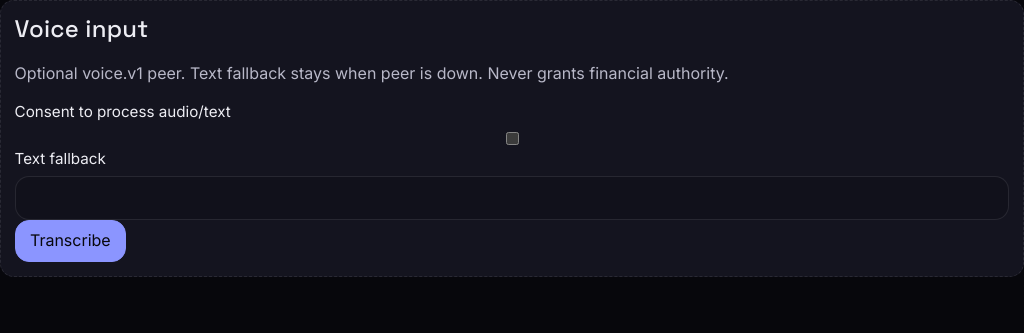
Test: wave6 money-path gates › voice enabled path fails closed on peer down (no fake transcript)
The width and height of the screenshot is (1024, 333).
Click the checkbox: coordinates (512, 138) [19,132,1006,145]
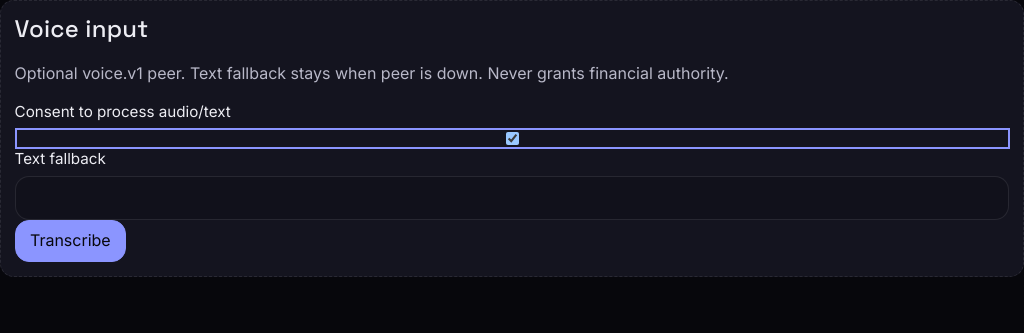
Click the button "Transcribe": coordinates (70, 241) [15,220,126,262]
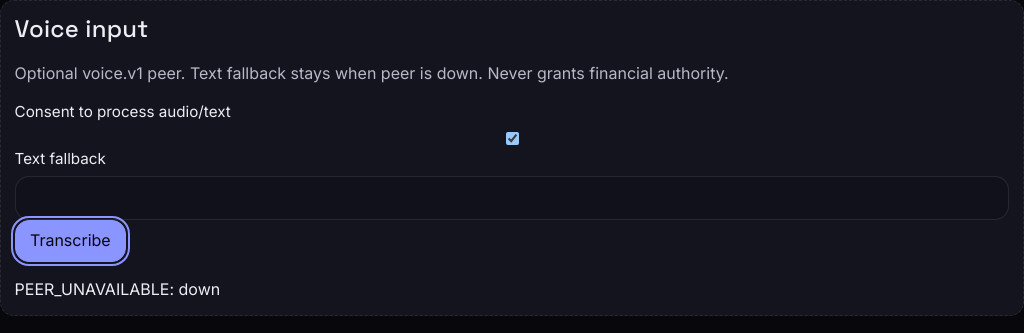
Check: the message with test id "voice-slot-error" shows "PEER_UNAVAILABLE", box [15,279,220,299]
